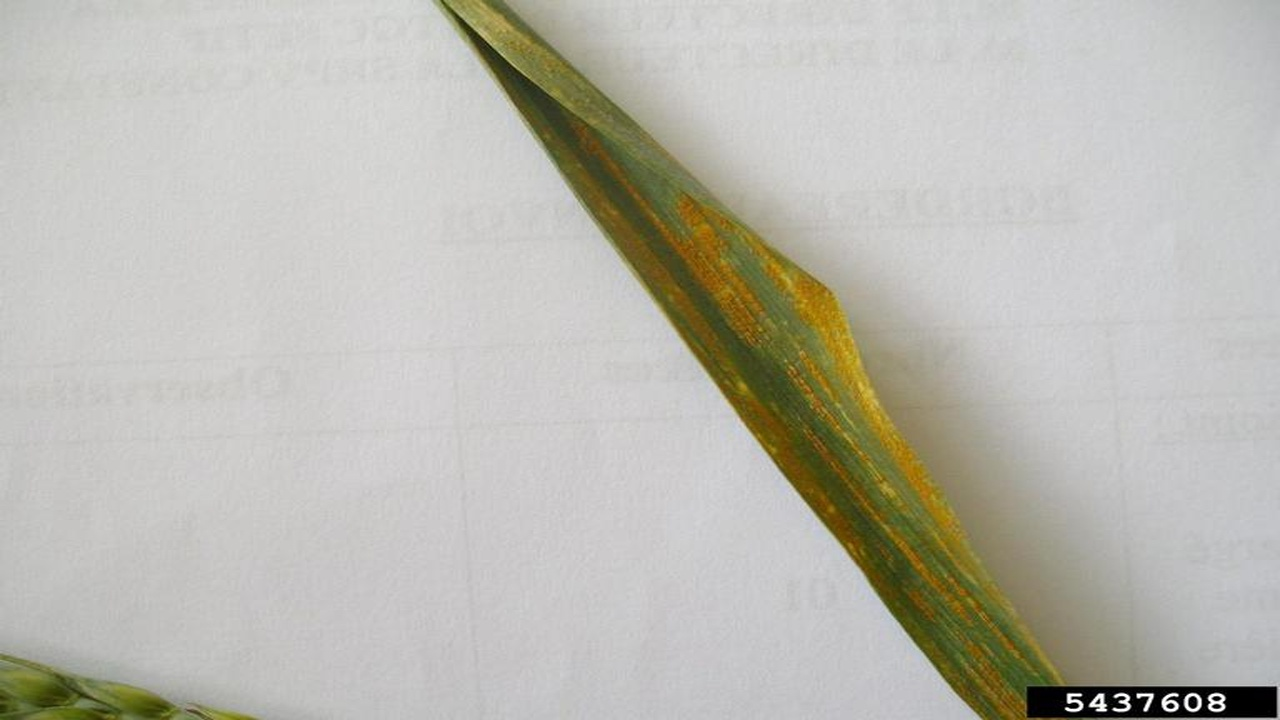stripe_rust: (436, 2, 1030, 720)
